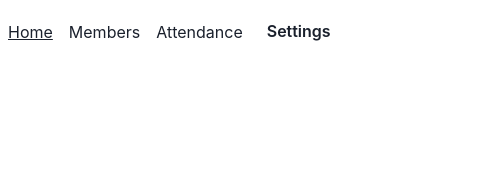
it: Main UI Components › NavigationElements › handles nested routes
Click the button "Settings".
click(299, 32)  # box [251,12,347,52]
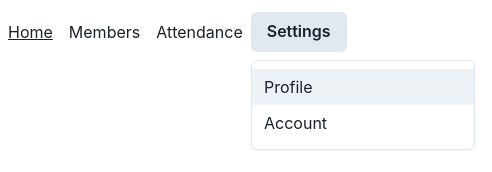
Check: the menu item "Profile" is shown, box [252,69,474,105]
